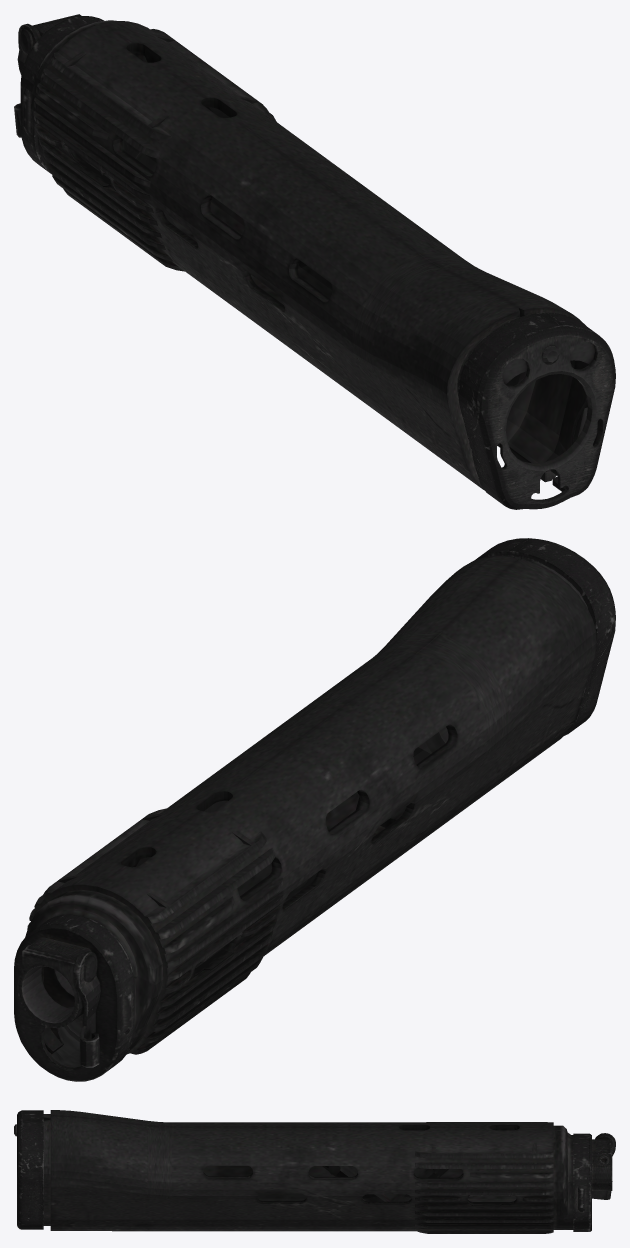
3 views of the same model, one above another, from view 1: azimuth 30°, elevation 25°; view 2: azimuth 150°, elevation 25°; view 3: azimuth 270°, elevation 25° (orthographic). The views are drawn at different scales.
Visible parts, largest first — view 1: TW_5c471c6c2e221602b66cd9ae_PZ_Import; view 2: TW_5c471c6c2e221602b66cd9ae_PZ_Import; view 3: TW_5c471c6c2e221602b66cd9ae_PZ_Import.
Boxes of the visible parts, x1,y1,x2,y2 form: TW_5c471c6c2e221602b66cd9ae_PZ_Import: (14,14,615,509); TW_5c471c6c2e221602b66cd9ae_PZ_Import: (14,538,615,1081); TW_5c471c6c2e221602b66cd9ae_PZ_Import: (14,1110,615,1233).
Bounding box in the file's own units: 0.0304 × 0.1758 × 0.0364.
1 material, 1 textured.
